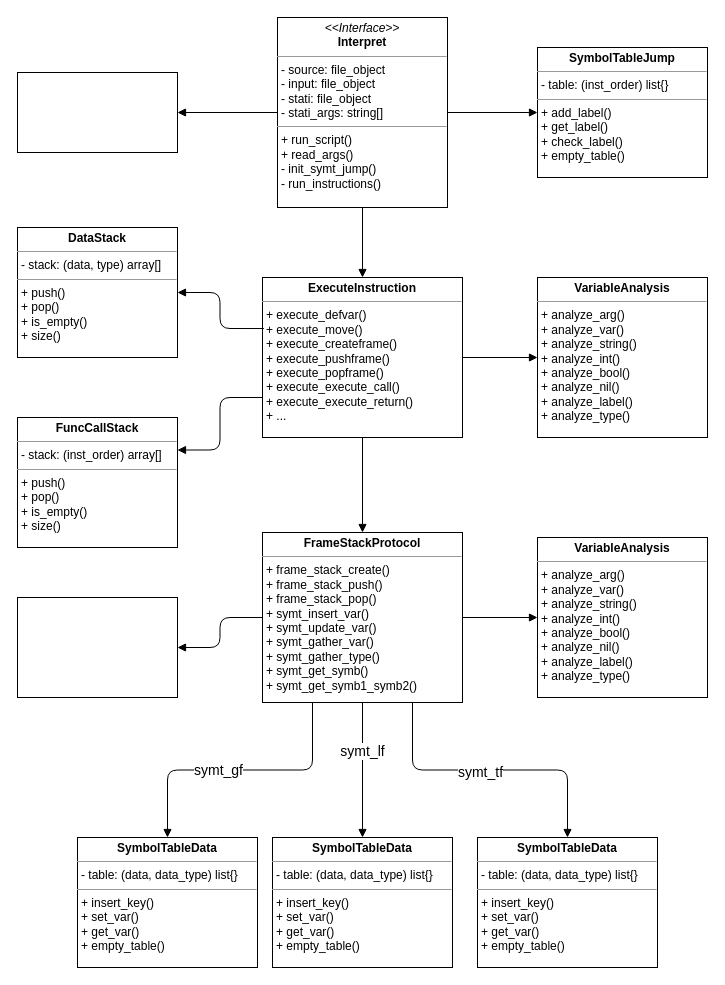
This 725x985 diagram has some shape labels left out. The shapes that lost their labels are listed below. From the top down, each one's box as (x1, y1, x2, y2) in pixels, then its label:
(16, 72, 178, 152): InputParser + parse_instructions() + parse_arguments()
(16, 596, 178, 698): FrameStack - frame_stack (symt) array[] + push_frame() + pop_frame()
